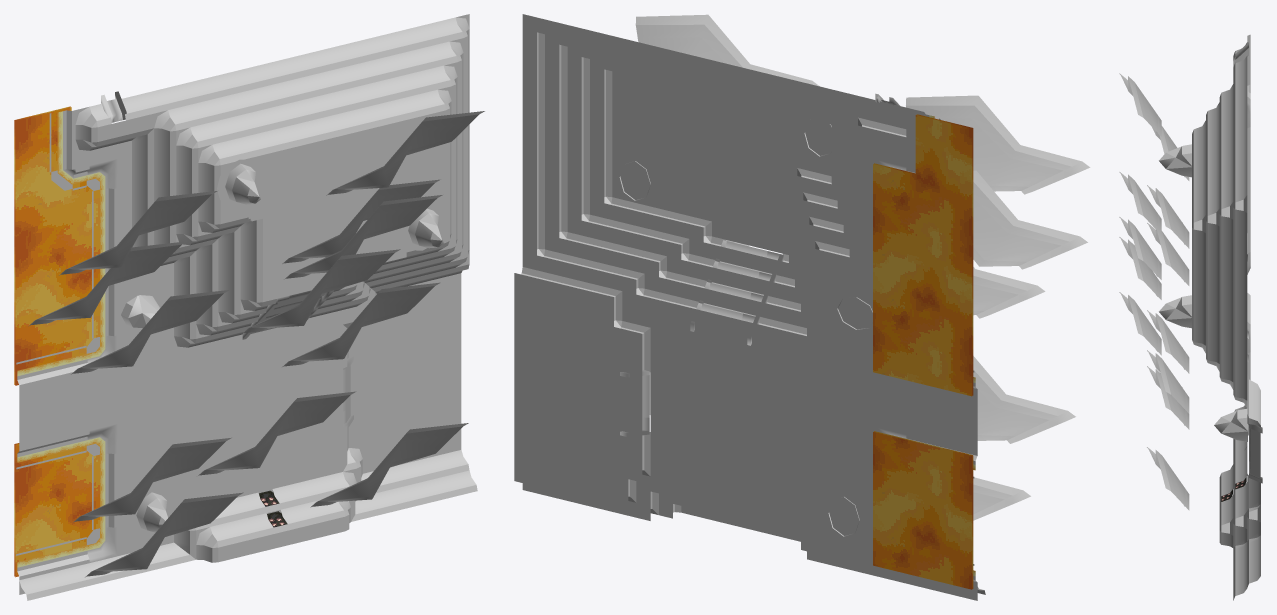
The model's file is Mount-Undara-1_03_03.obj.
3 renders of one model, left to right at view 1: azimuth 30°, elevation 25°; view 2: azimuth 150°, elevation 25°; view 3: azimuth 270°, elevation 25°, orthographic. The views are drawn at different scales.
Parts seen in each view (by area): view 1: map; view 2: map; view 3: map.
Part boxes in pixels (x1,y1,x2,y2): map: [14, 14, 484, 600]; map: [514, 14, 1090, 600]; map: [1119, 34, 1262, 600].
Bounding box in the file's own units: 35.59 × 32.5 × 10.4.
